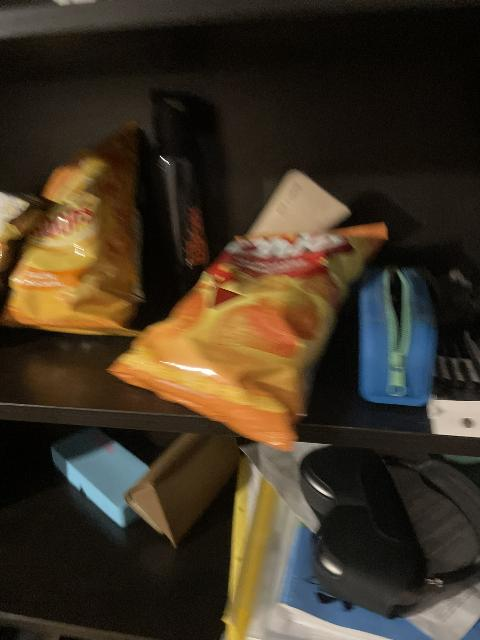Chio Cascaval 125g: (104, 223, 384, 449)
Chio Hula Hoops Cheese 70g: (0, 121, 151, 333)
